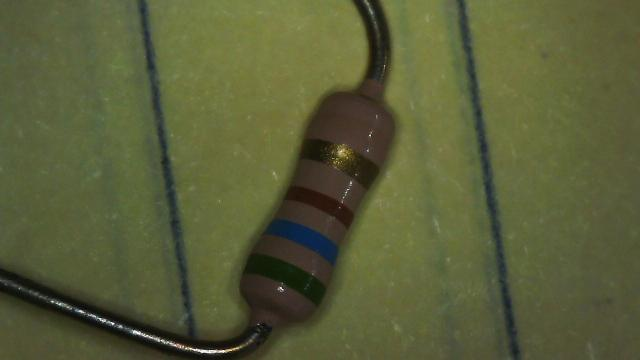blue: (264, 219, 339, 266)
brown: (284, 185, 354, 228)
gold: (301, 138, 378, 188)
green: (244, 254, 326, 307)
resistor: (207, 62, 422, 353)
